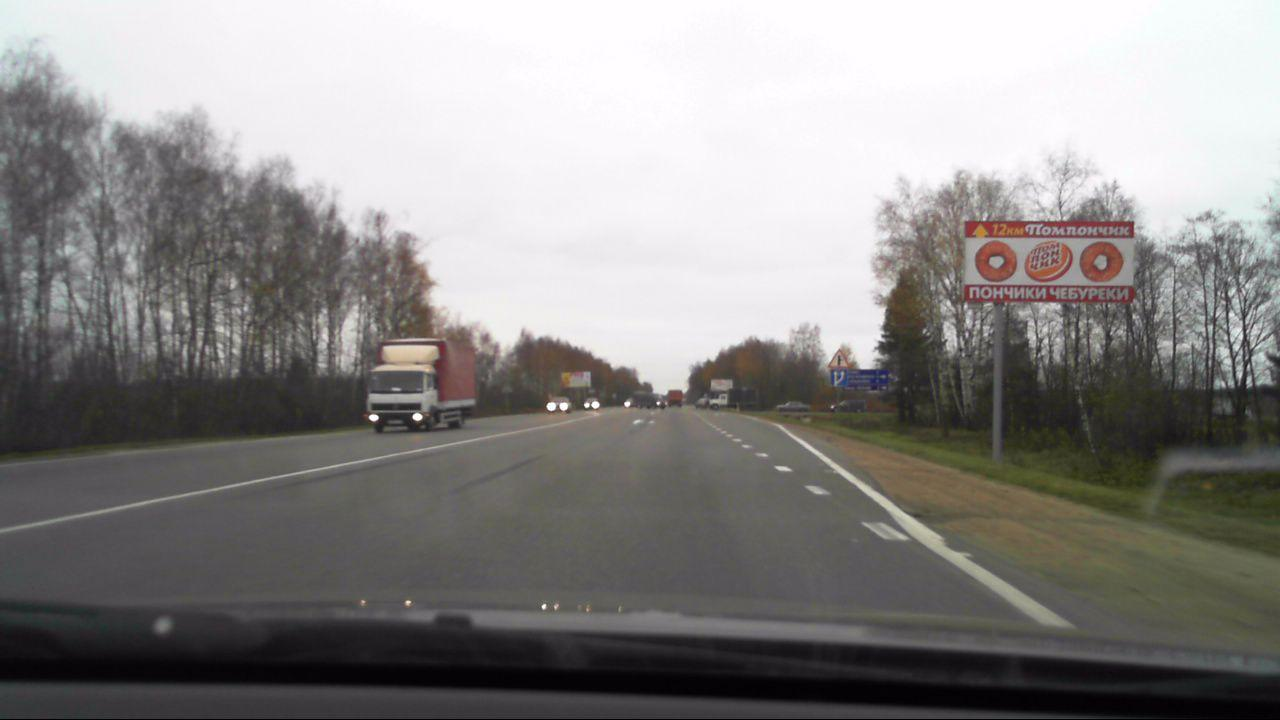2_3_2: (828, 348, 849, 369)
5_15_3: (830, 368, 848, 386)
